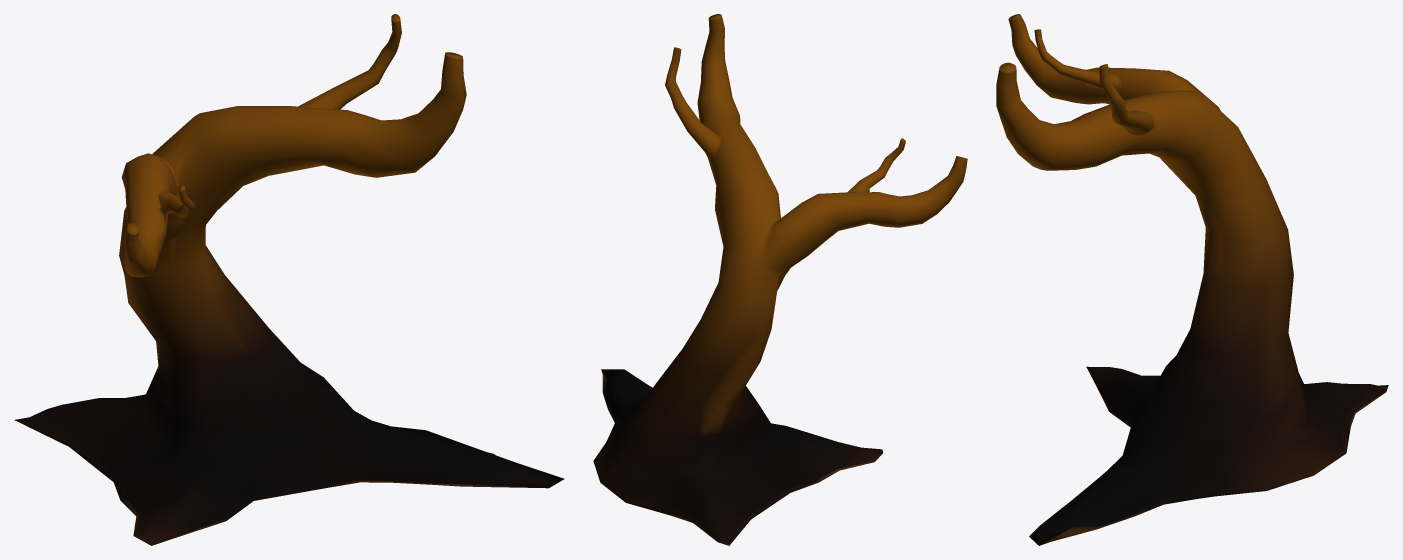
Rendered from sm_treeTrunk5.fbx.
The picture shows the model from 3 angles, left to right: view 1: azimuth 30°, elevation 25°; view 2: azimuth 150°, elevation 25°; view 3: azimuth 270°, elevation 25°; orthographic projection. The views are drawn at different scales.
Visible parts, largest first — view 1: Tronc5; view 2: Tronc5; view 3: Tronc5.
Part boxes in pixels (x1,y1,x2,y2): Tronc5: (14, 14, 564, 545); Tronc5: (593, 14, 967, 545); Tronc5: (996, 14, 1388, 545).
Bounding box in the file's own units: 311 × 309 × 259.
